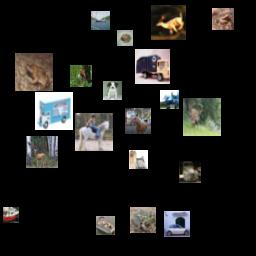airplane: (160, 90, 179, 109)
automobile: (164, 211, 190, 237), (179, 161, 201, 183)
deer: (183, 98, 221, 136), (151, 5, 186, 40), (26, 136, 58, 168), (70, 65, 92, 87)
dog: (103, 81, 122, 100), (129, 150, 148, 169)
frog: (15, 53, 53, 91), (130, 207, 156, 233), (212, 8, 234, 30), (117, 30, 133, 46)
ship: (96, 216, 115, 235), (91, 11, 110, 30), (3, 207, 19, 223)
truck: (35, 92, 73, 130), (135, 49, 170, 84)
